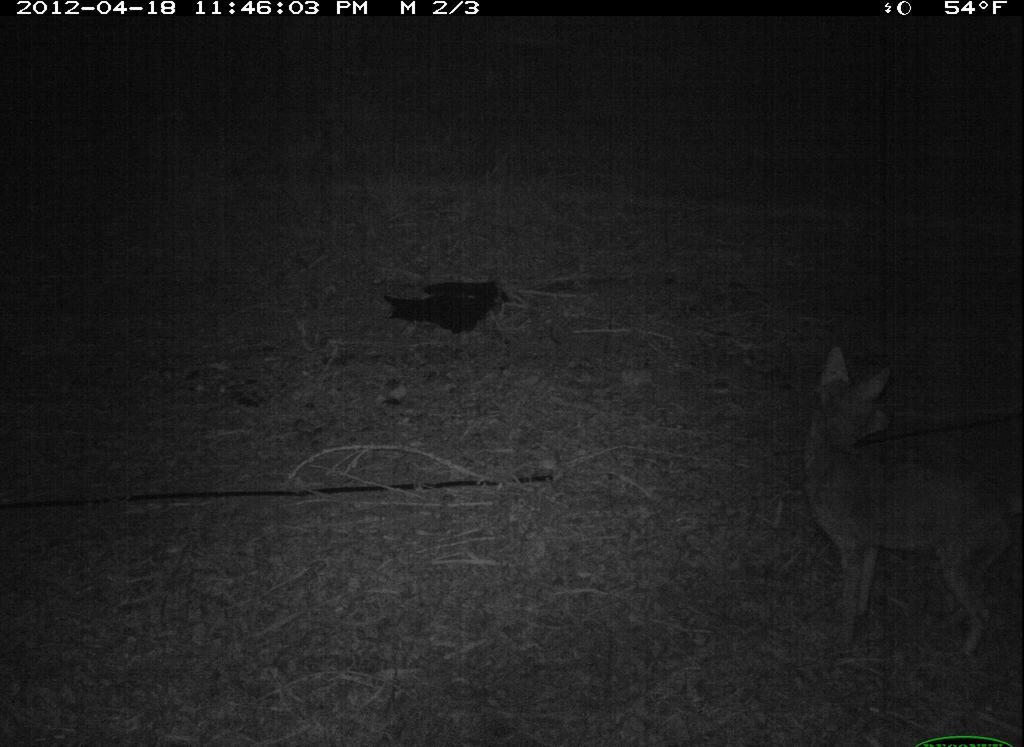coyote: (799, 331, 1024, 673)
